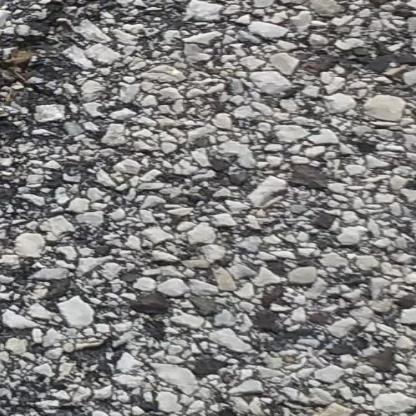Cracks: (0, 0, 96, 201), (0, 376, 15, 416)
